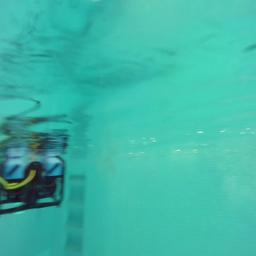back: (0, 154, 65, 216)
